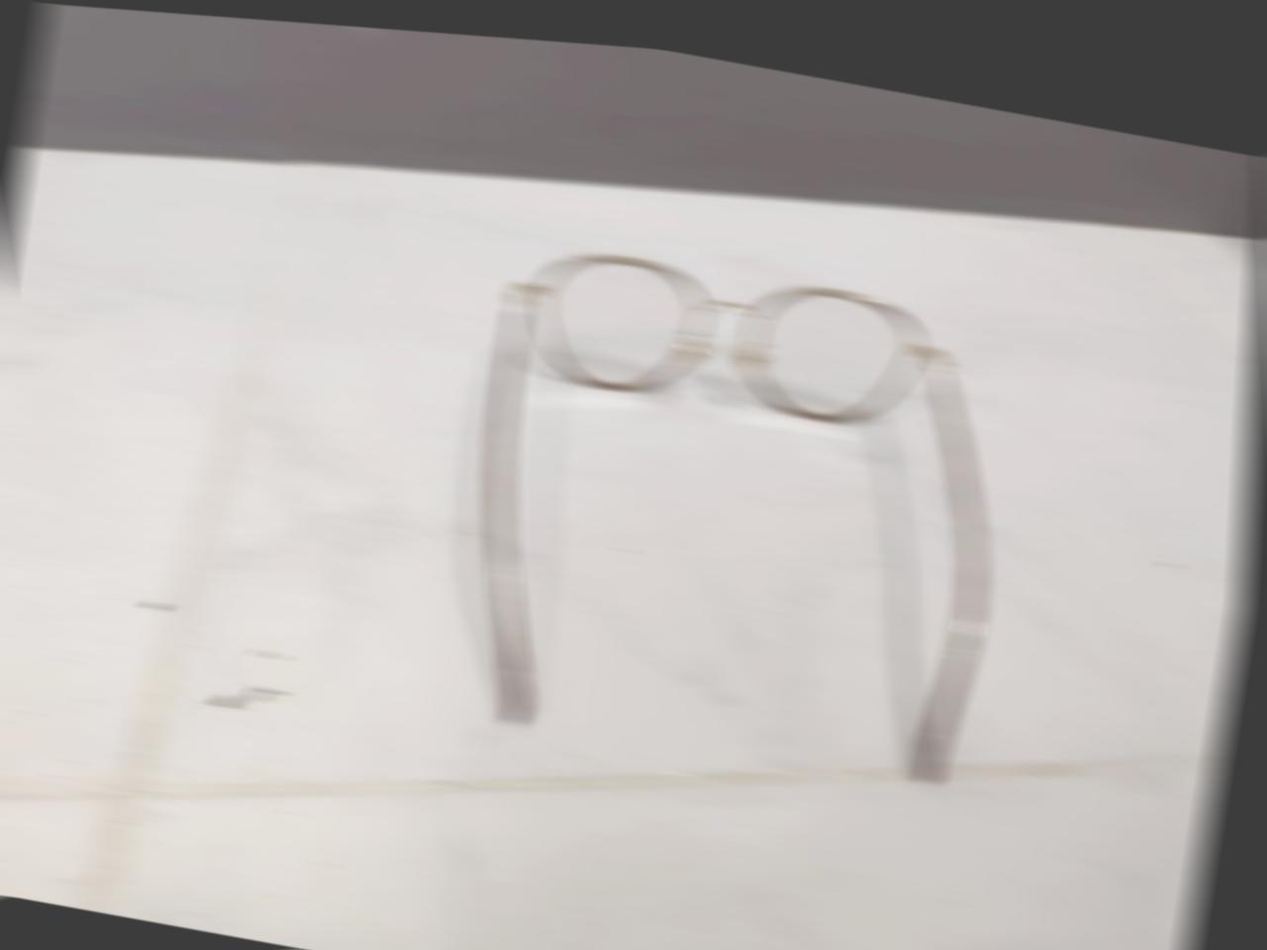glasses: (409, 203, 1065, 815)
